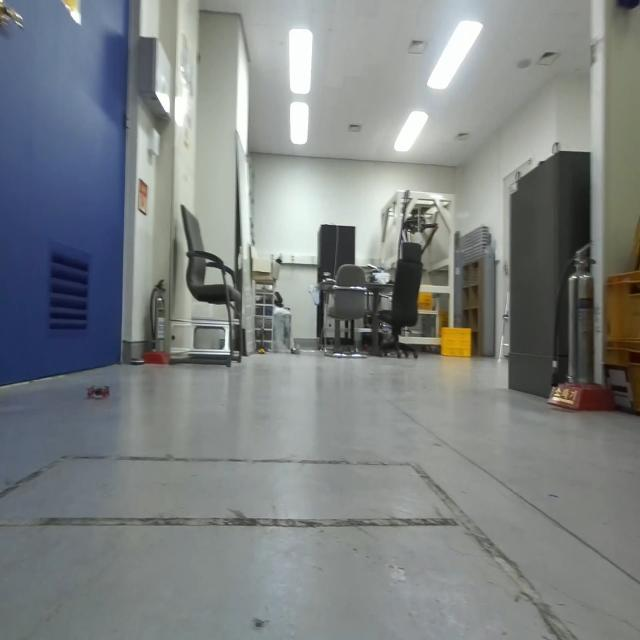crazyflie: (83, 380, 111, 406)
